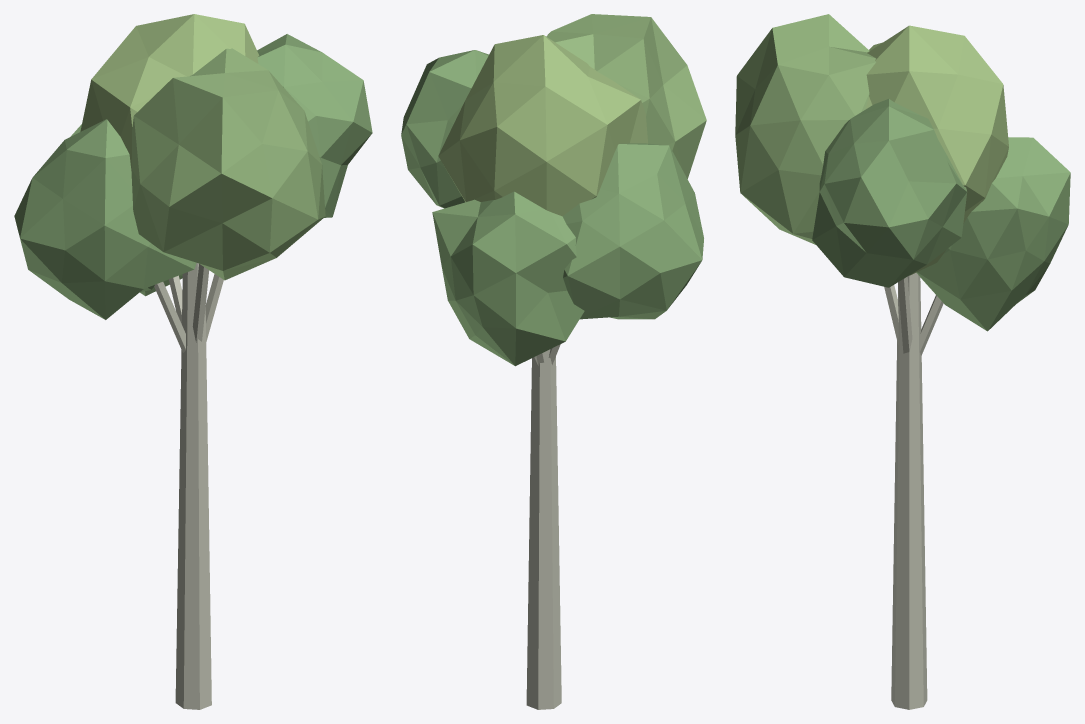
The model's file is node_tree_grassland_2.glb.
3 views of the same model, side by side, from view 1: azimuth 30°, elevation 25°; view 2: azimuth 150°, elevation 25°; view 3: azimuth 270°, elevation 25° (orthographic). The views are drawn at different scales.
Visible parts, largest first — view 1: node_tree_grassland_2; view 2: node_tree_grassland_2; view 3: node_tree_grassland_2.
Part boxes in pixels (box(x1,y1,x2,y2)): node_tree_grassland_2: box(14, 14, 372, 709); node_tree_grassland_2: box(401, 14, 706, 709); node_tree_grassland_2: box(735, 14, 1070, 709).
Size of the model in its own units: 3.97 by 8.07 by 3.62.
